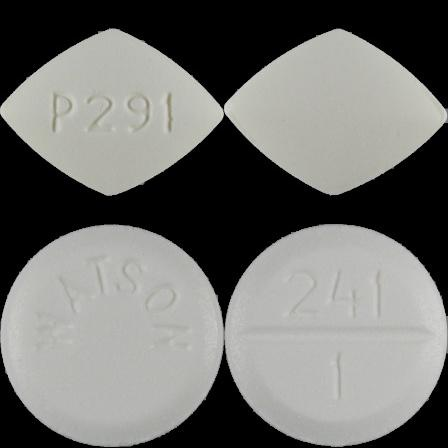0574-0292: (0, 0, 224, 224)
